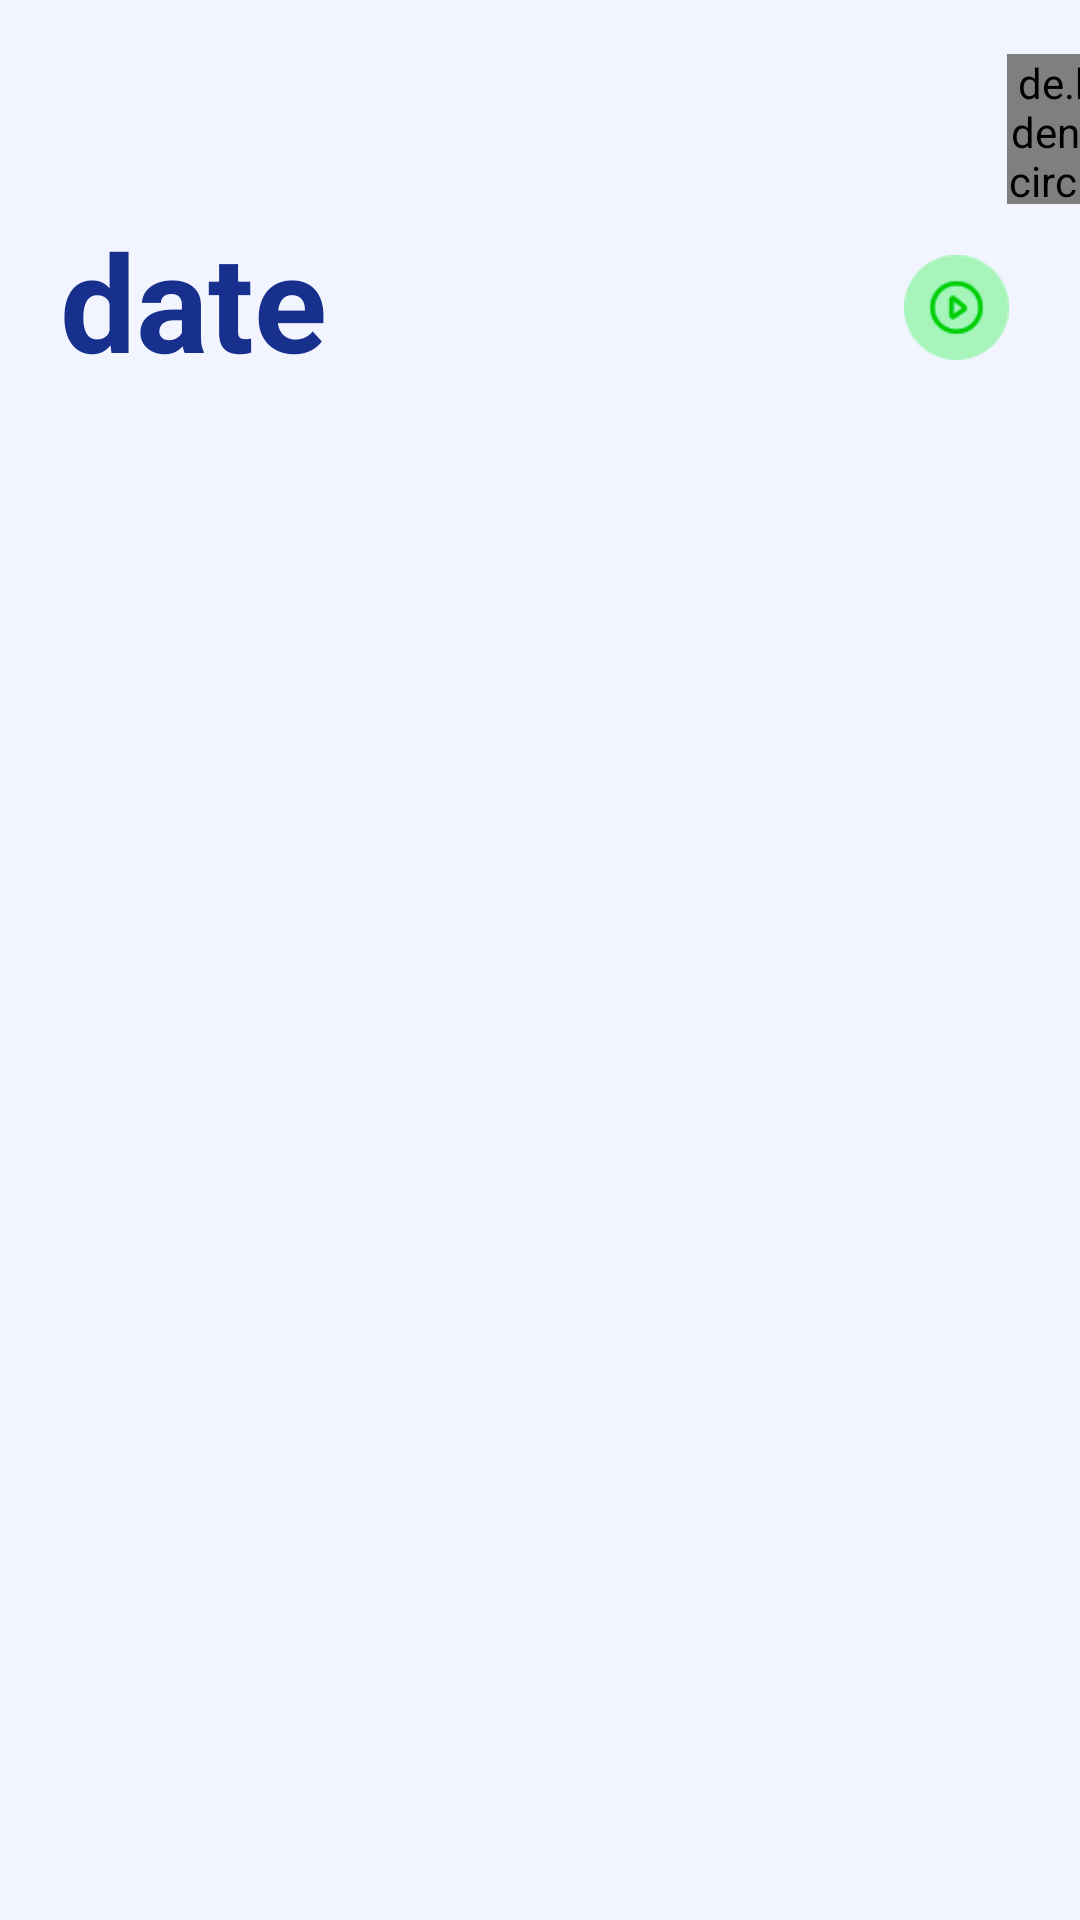

Screen size 1080w x 1920h. Icon name, then its center in pixels as (x,y):
player on: (956,307)
